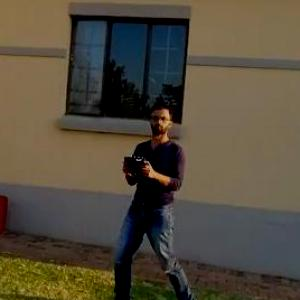follow: (105, 98, 202, 299)
